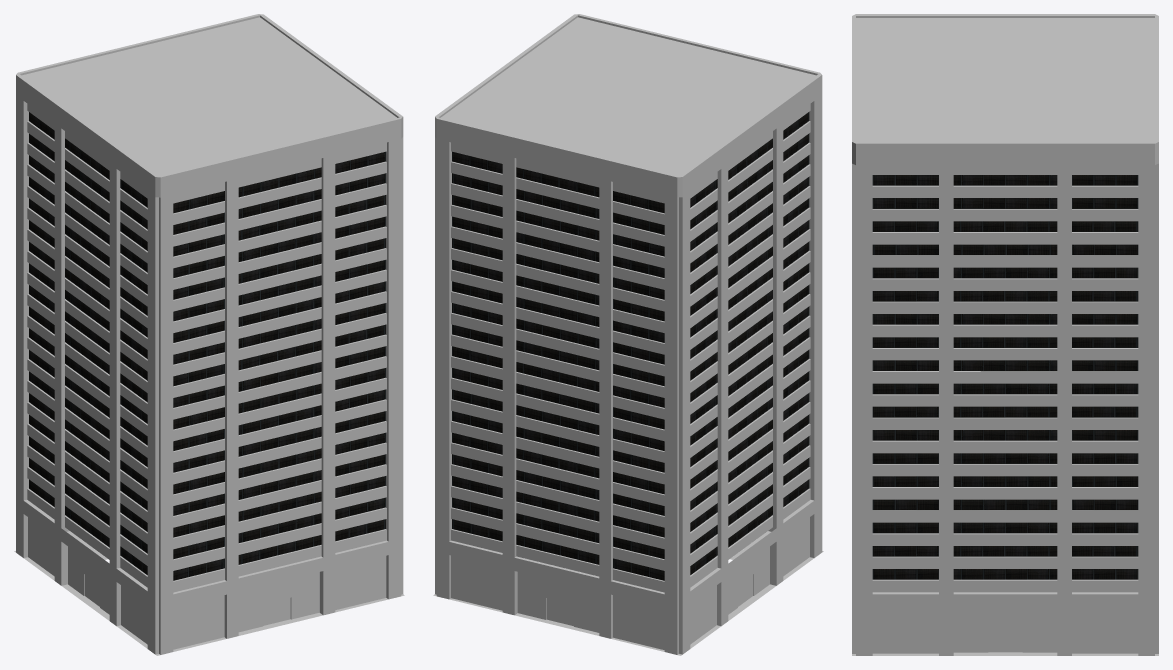
The picture shows the model from 3 angles, left to right: view 1: azimuth 30°, elevation 25°; view 2: azimuth 150°, elevation 25°; view 3: azimuth 270°, elevation 25°; orthographic projection. The views are drawn at different scales.
Visible parts, largest first — view 1: EC-013; view 2: EC-013; view 3: EC-013.
Part boxes in pixels (x1,y1,x2,y2): EC-013: (14,14,404,655); EC-013: (433,14,823,655); EC-013: (852,14,1158,655).
Size of what is drawn, in the model's own units: 36 by 66.29 by 36.
